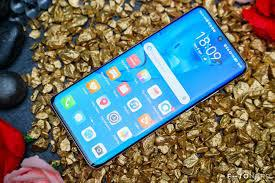Smartphone: (64, 11, 239, 168)
